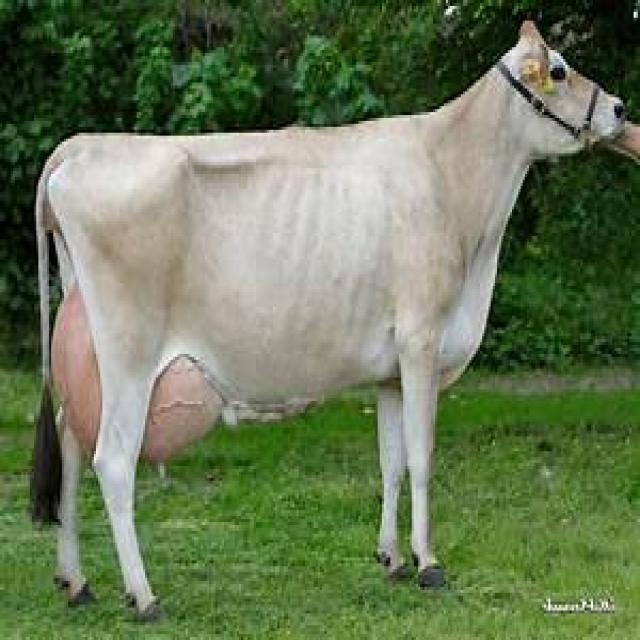animal: (28, 18, 638, 622)
